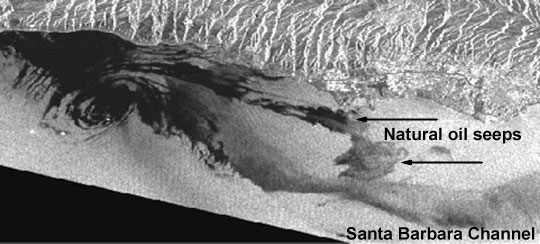anomaly: (6, 36, 162, 148)
